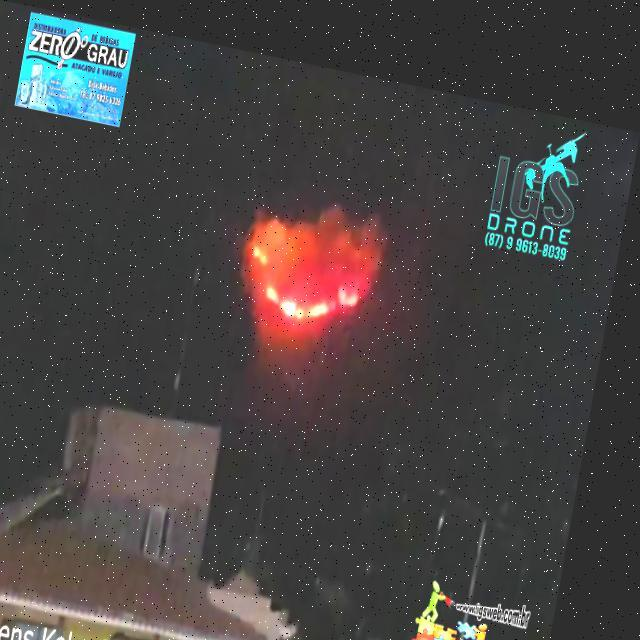Fire: (272, 270, 338, 308), (344, 270, 368, 292), (259, 232, 278, 253)
